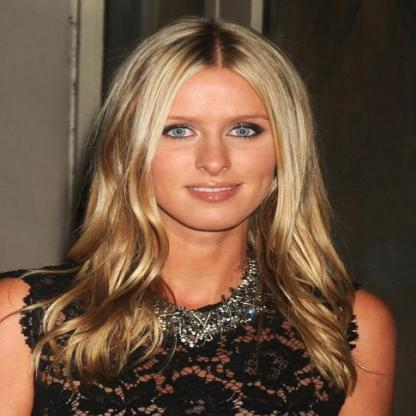long-hair: (50, 231, 346, 296)
